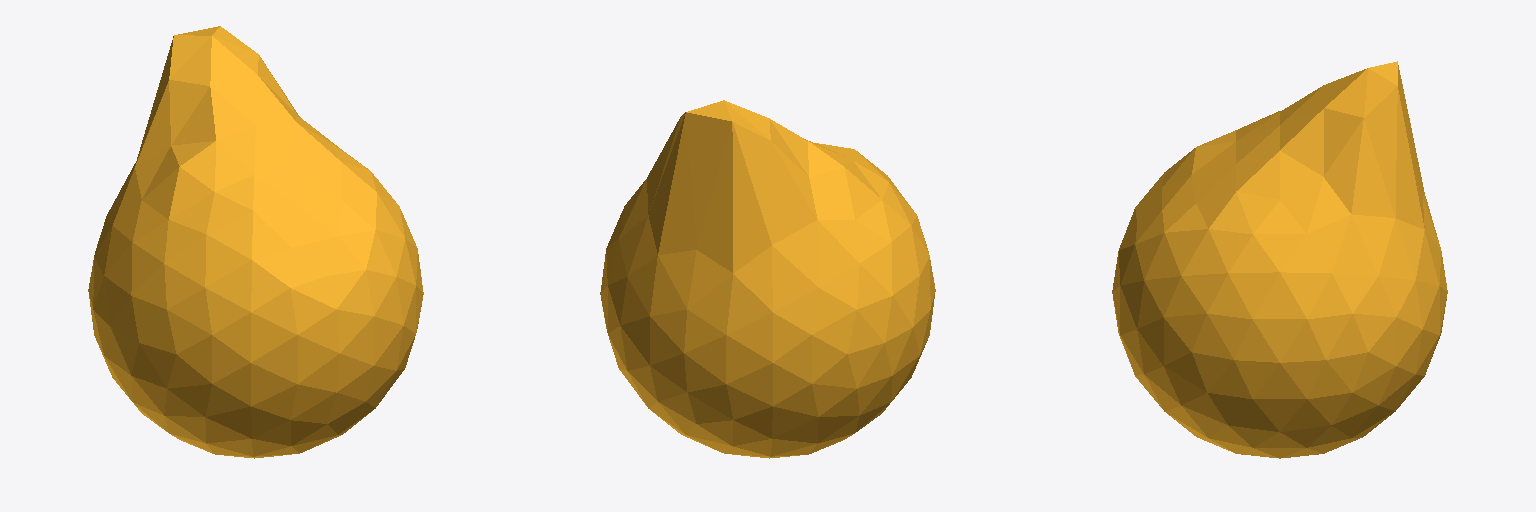
The model's file is Soul.obj.
The picture shows the model from 3 angles: view 1: azimuth 30°, elevation 25°; view 2: azimuth 150°, elevation 25°; view 3: azimuth 270°, elevation 25°; orthographic projection.
Visible parts, largest first — view 1: Soul; view 2: Soul; view 3: Soul.
Boxes of the visible parts, x1,y1,x2,y2 form: Soul: [88, 26, 423, 458]; Soul: [600, 100, 935, 458]; Soul: [1112, 61, 1447, 458].
Bounding box in the file's own units: 0.75 × 0.9275 × 0.75.